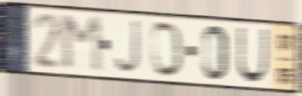0: (201, 24, 229, 83)
2: (32, 11, 62, 72)
J: (114, 18, 143, 77)
M: (58, 14, 106, 76)
O: (150, 19, 185, 80)
U: (235, 26, 270, 86)
